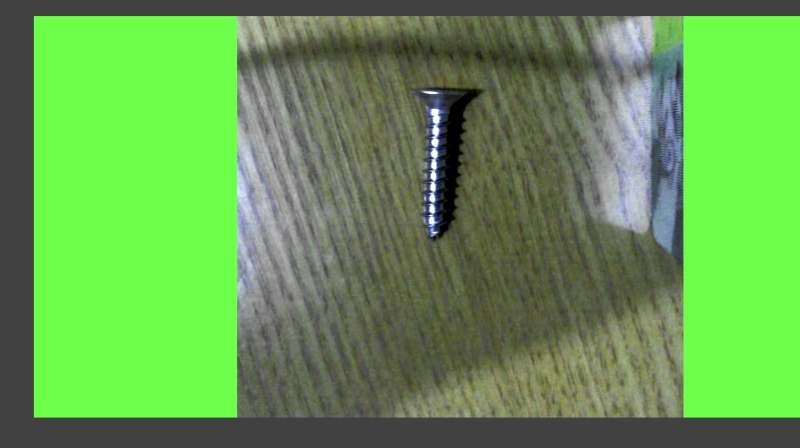S001: (409, 83, 475, 242)
